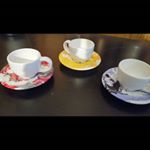cups: (6, 45, 57, 82), (115, 56, 150, 94), (61, 36, 97, 65)
